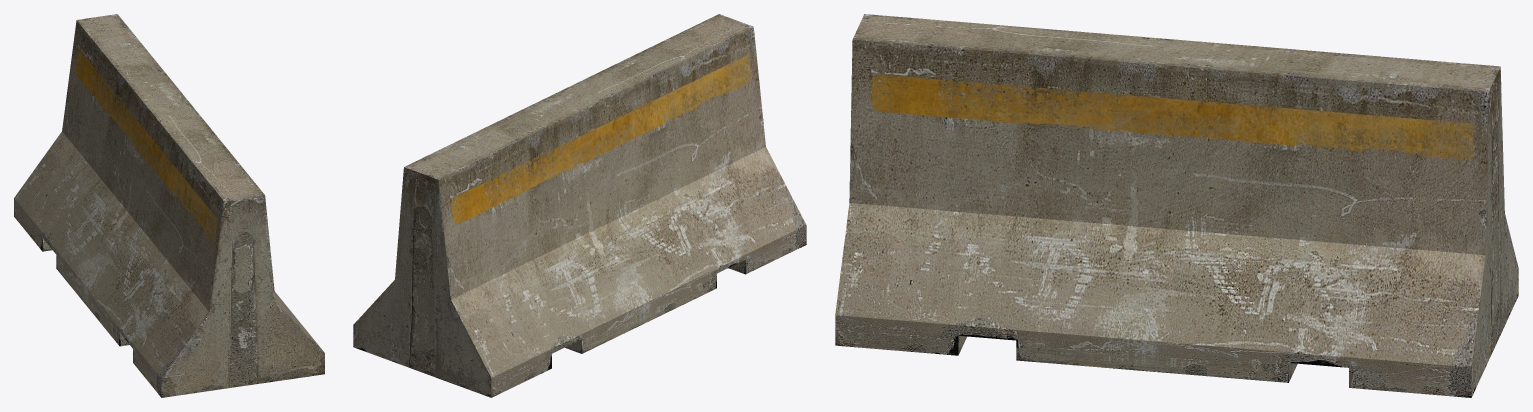
File: Road_block_v1 (7).glb
3 views of the same model, side by side, from view 1: azimuth 30°, elevation 25°; view 2: azimuth 150°, elevation 25°; view 3: azimuth 270°, elevation 25° (orthographic). The views are drawn at different scales.
Visible parts, largest first — view 1: Road_block_v1 (7); view 2: Road_block_v1 (7); view 3: Road_block_v1 (7).
Boxes of the visible parts, left/top/right/bottom form: Road_block_v1 (7): left=14, top=14, right=324, bottom=397; Road_block_v1 (7): left=353, top=14, right=806, bottom=397; Road_block_v1 (7): left=835, top=14, right=1518, bottom=397.
Size of the model in its own units: 1.33 by 1.07 by 2.48.
1 material, 1 textured.
